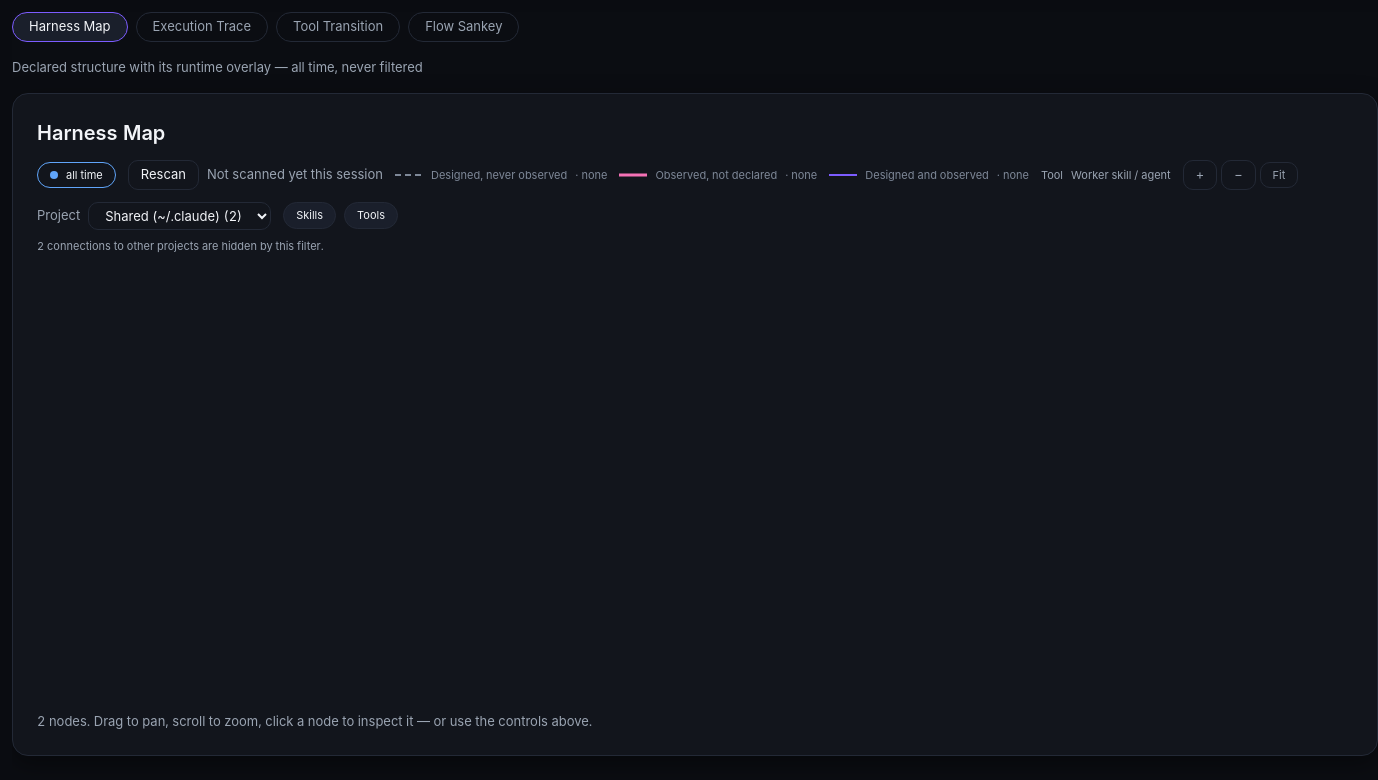
Test: §6.7 Harness Map — making ~555 nodes navigable (ADR-039) › scopes the visible node set to a chosen project, and discloses what it hides
The width and height of the screenshot is (1378, 780).
Expected: the element with test id "harness-flow" is shown, top-left (13, 266), bottom-right (1377, 700)
Select "family-app (2)" in the dropdown with test id "harness-project-scope" at coordinates (180, 216), box top-left (88, 202), bottom-right (271, 230)
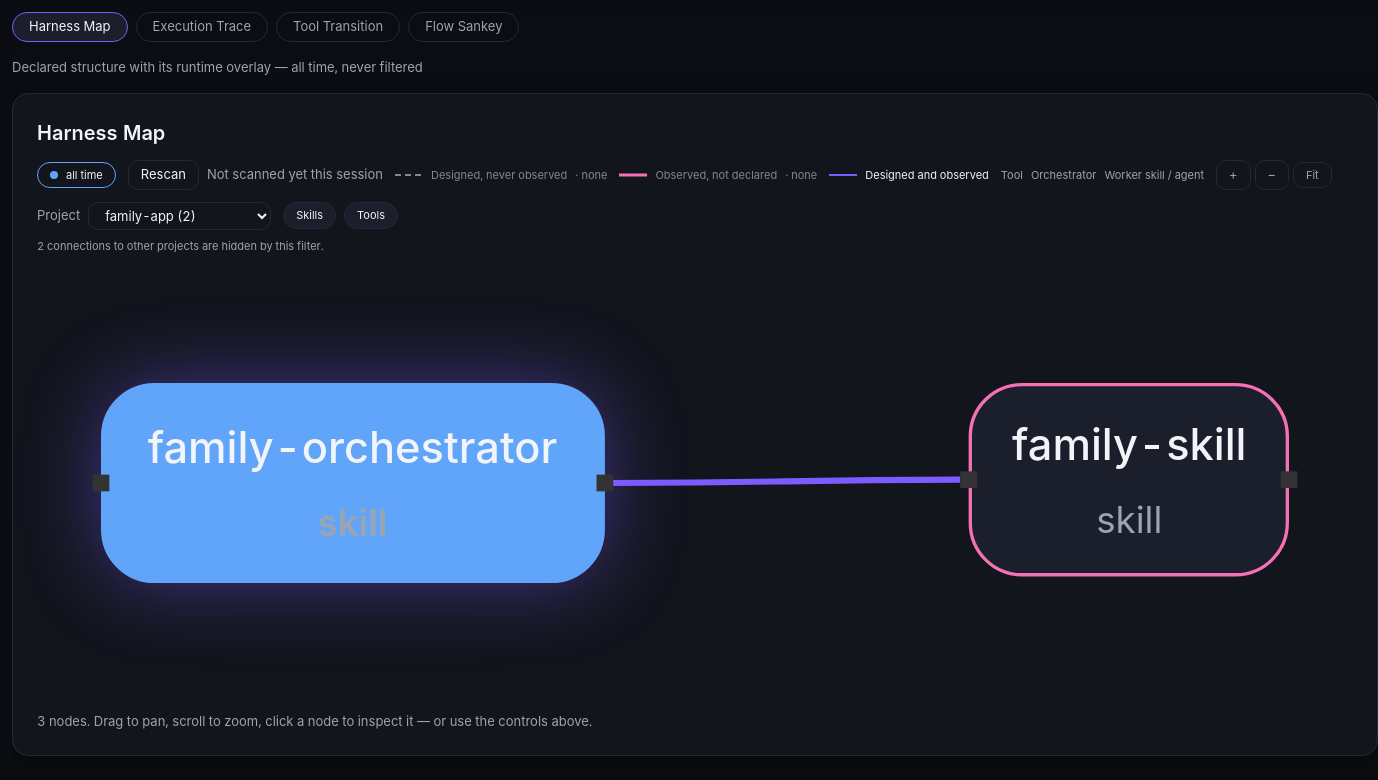
Expected: the text with test id "harness-cross-scope" shows "2 connections to other projects are hidden", top-left (37, 238), bottom-right (324, 252)
Expected: the element with test id "flow-node" is shown, top-left (969, 383), bottom-right (1290, 576)
